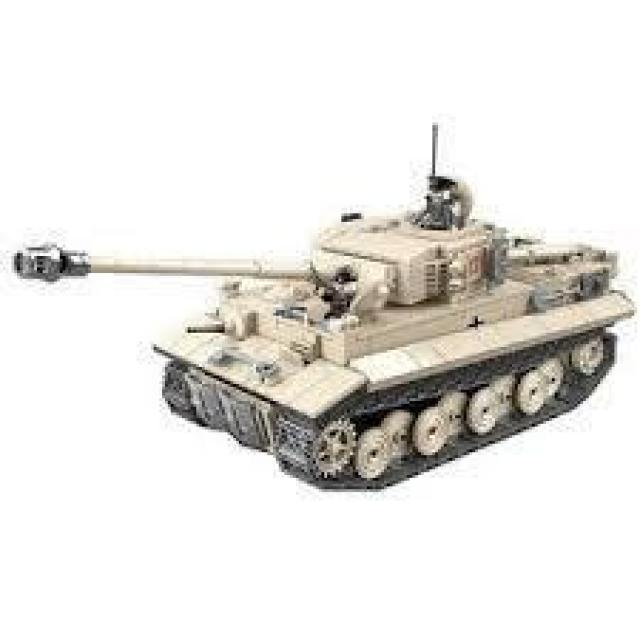Tanks: (4, 17, 627, 592)
